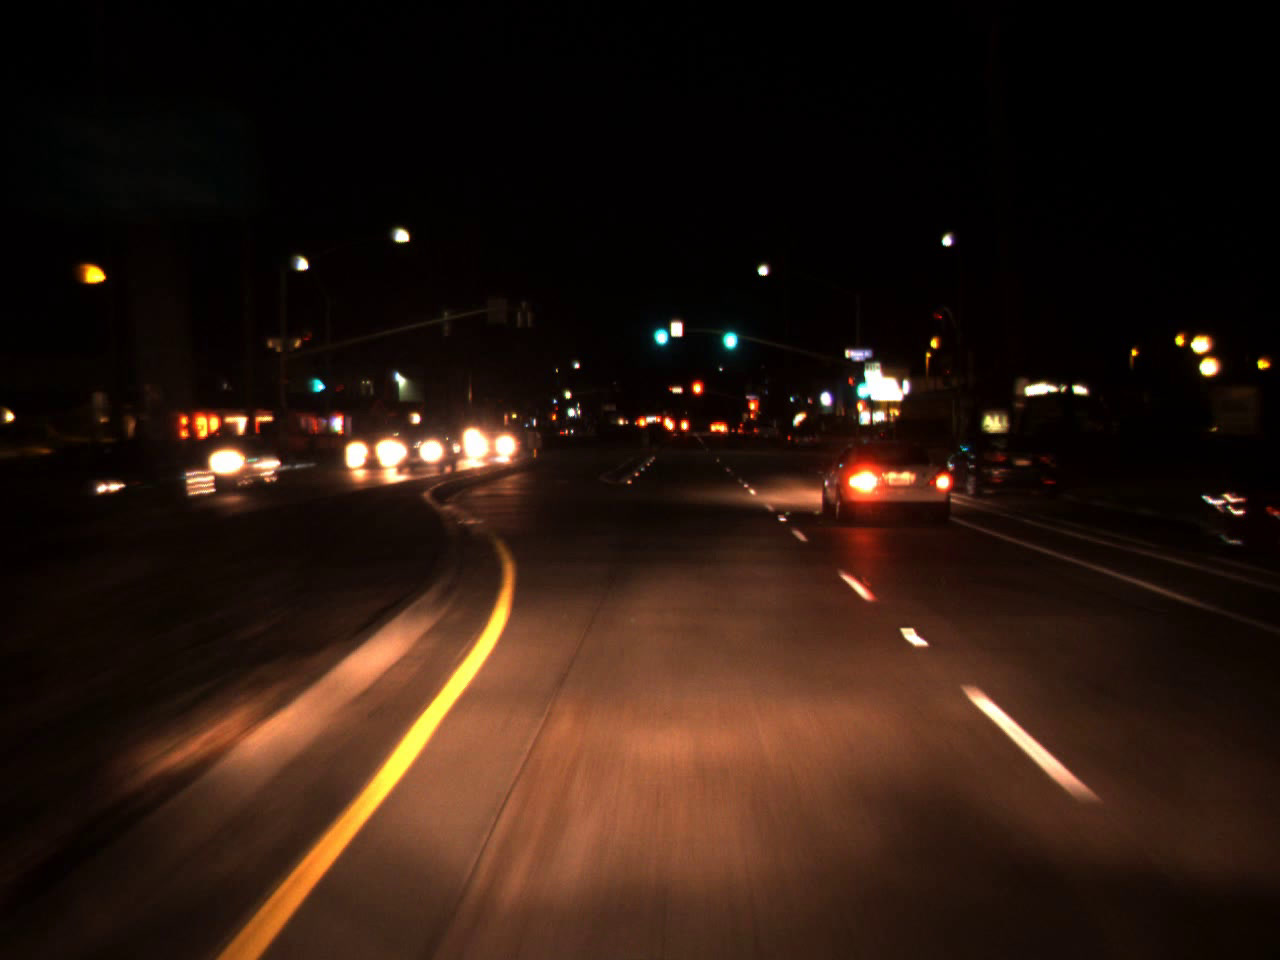go: (717, 310, 740, 355), (650, 309, 669, 351), (850, 365, 869, 401), (310, 363, 324, 396)
stop: (690, 379, 703, 411), (746, 397, 759, 424)
